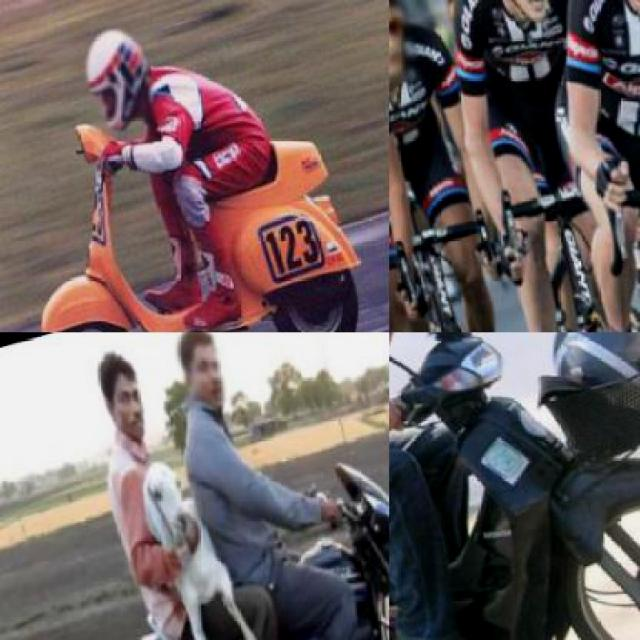With Helmet: (63, 8, 175, 142), (449, 0, 600, 51), (389, 0, 437, 97)
Without Helmet: (80, 334, 168, 454), (163, 332, 246, 414)
